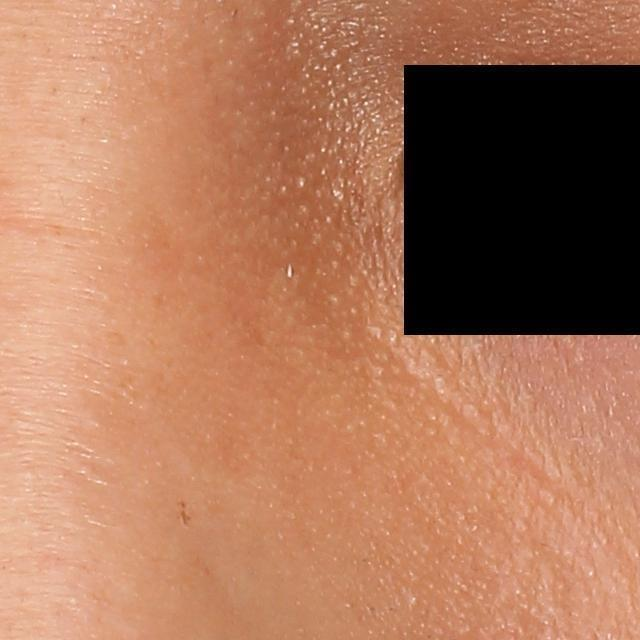melasma: (175, 494, 195, 536)
